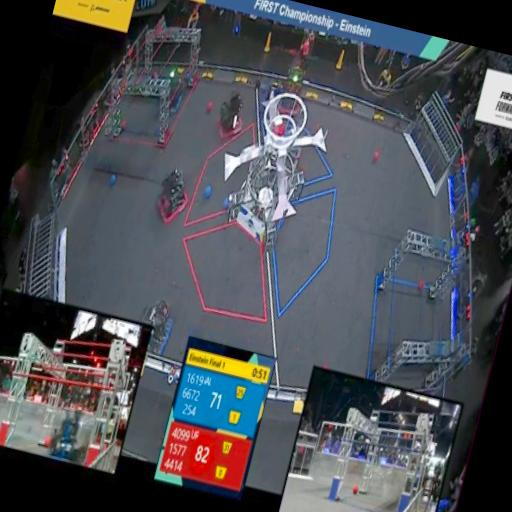robot: (148, 162, 197, 232), (126, 302, 182, 360), (209, 81, 253, 148), (274, 60, 310, 117), (156, 67, 188, 118)
